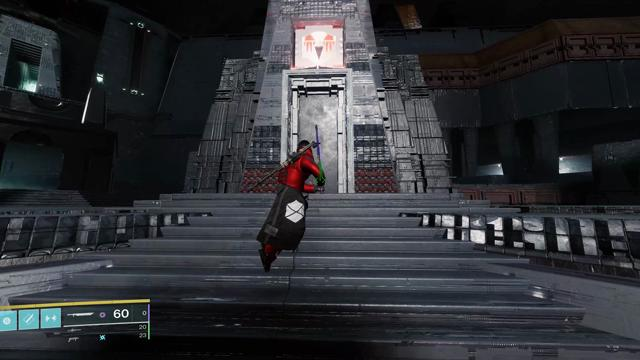give: (302, 31, 335, 65)
